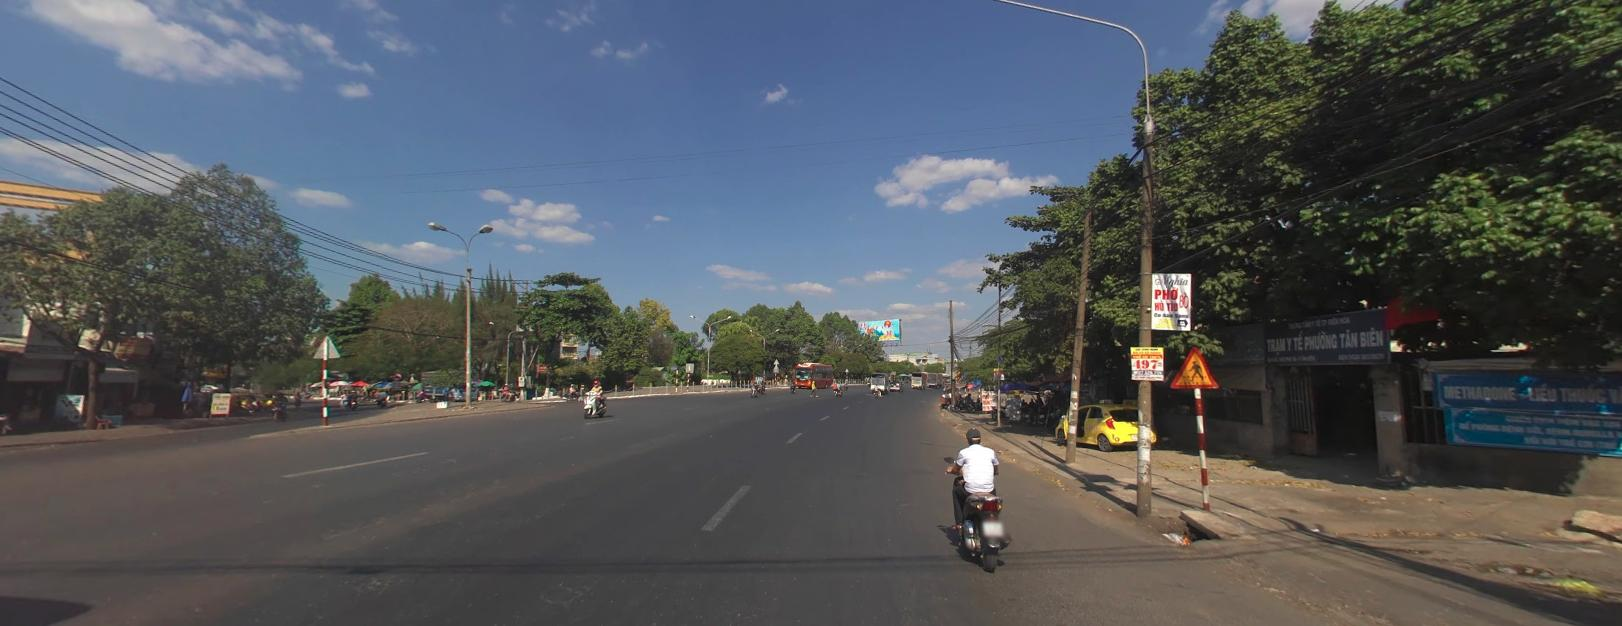Nguy hiem: (1166, 341, 1224, 391), (1169, 345, 1220, 387)
